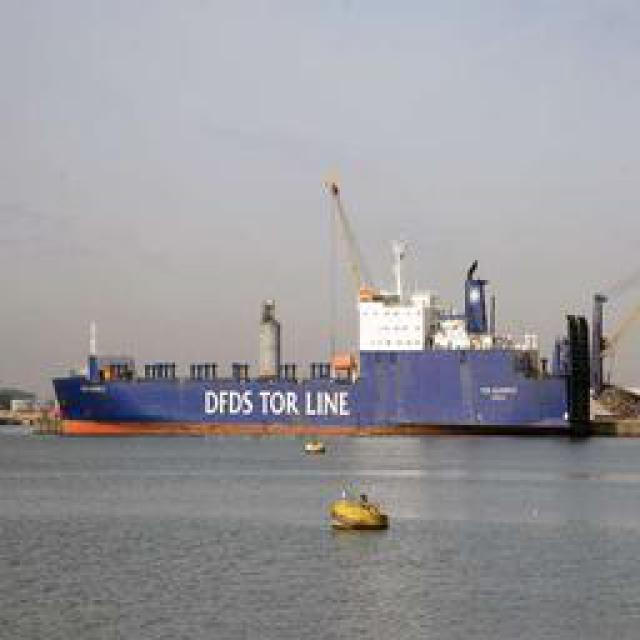Ship: (329, 496, 389, 531)
